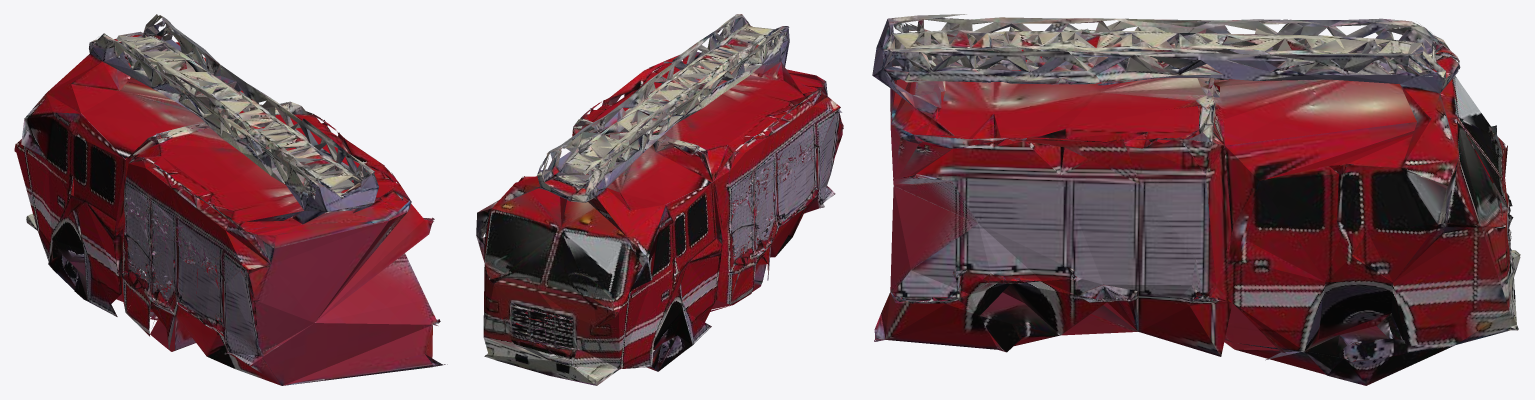
The model's file is firetruck_body.glb.
3 renders of one model, left to right at view 1: azimuth 30°, elevation 25°; view 2: azimuth 150°, elevation 25°; view 3: azimuth 270°, elevation 25°, orthographic. The views are drawn at different scales.
Visible parts, largest first — view 1: geometry_0; view 2: geometry_0; view 3: geometry_0.
Part boxes in pixels (x1,y1,x2,y2): geometry_0: (14,14,447,385); geometry_0: (476,14,843,385); geometry_0: (872,14,1520,385).
Bounding box in the file's own units: 0.4391 × 0.5189 × 1.
1 material, 1 textured.
